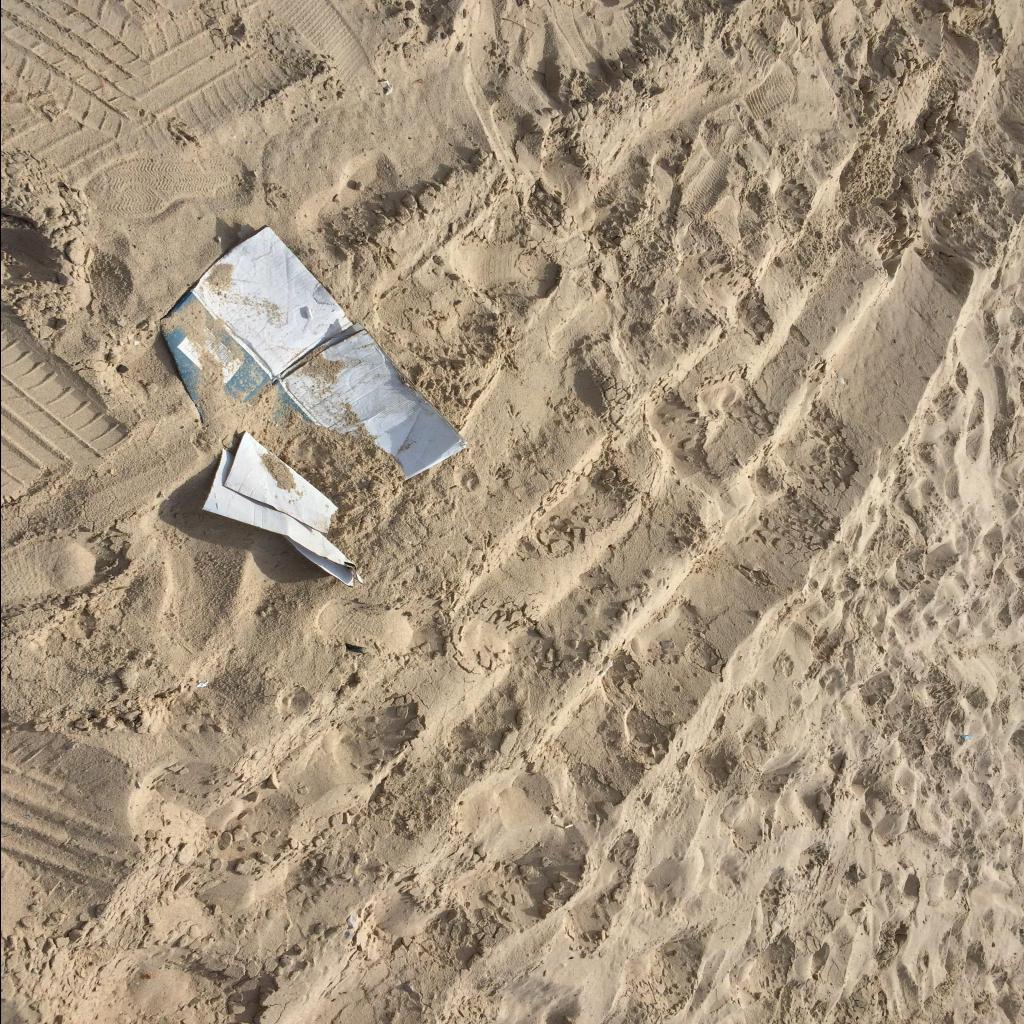Corrugated carton: (162, 224, 468, 586)
Unlabeled litter: (378, 80, 392, 94), (196, 680, 208, 687)
